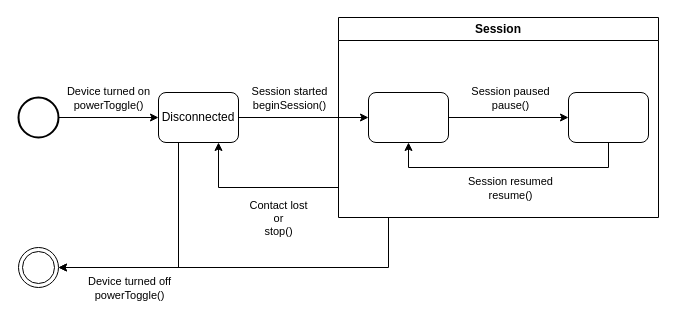
The diagram is 676 pixels wide and 318 high, and some of its shapes have lost their labels. Each missing label, with the box of its shape:
Active: (368, 92, 448, 142)
Paused: (568, 92, 648, 142)
